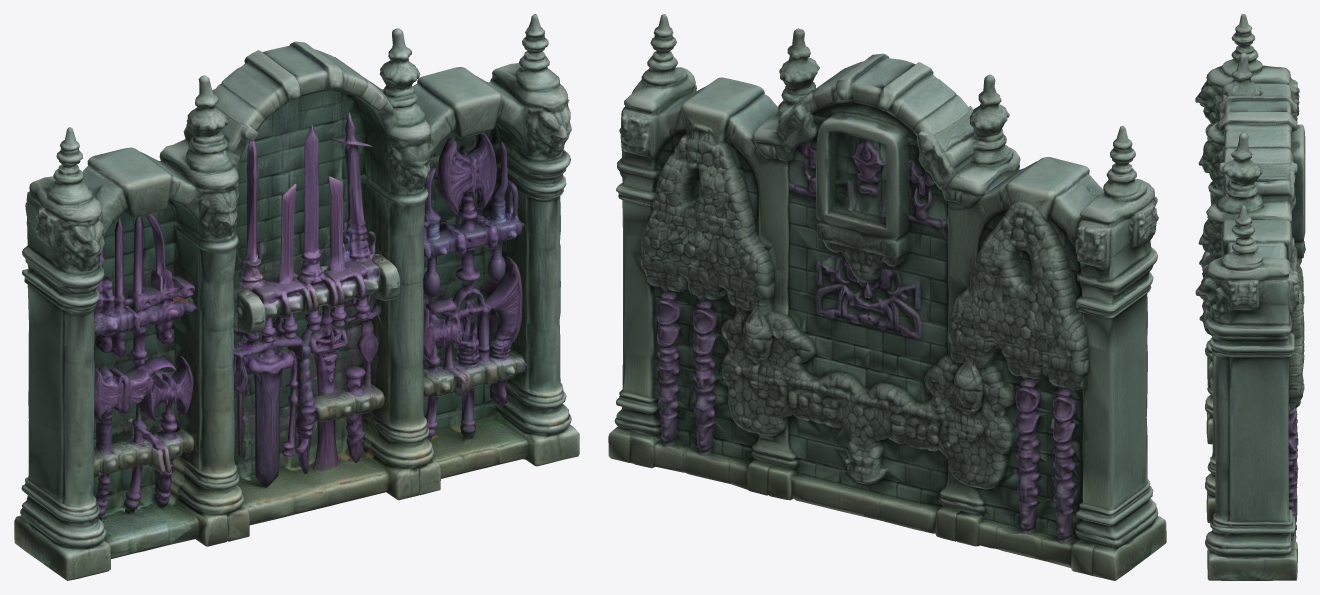
The model's file is armory_arcane.glb.
3 renders of one model, left to right at view 1: azimuth 30°, elevation 25°; view 2: azimuth 150°, elevation 25°; view 3: azimuth 270°, elevation 25°, orthographic. The views are drawn at different scales.
Bounding box in the file's own units: 1.89 × 1.57 × 0.4106.
1 material, 1 textured.
